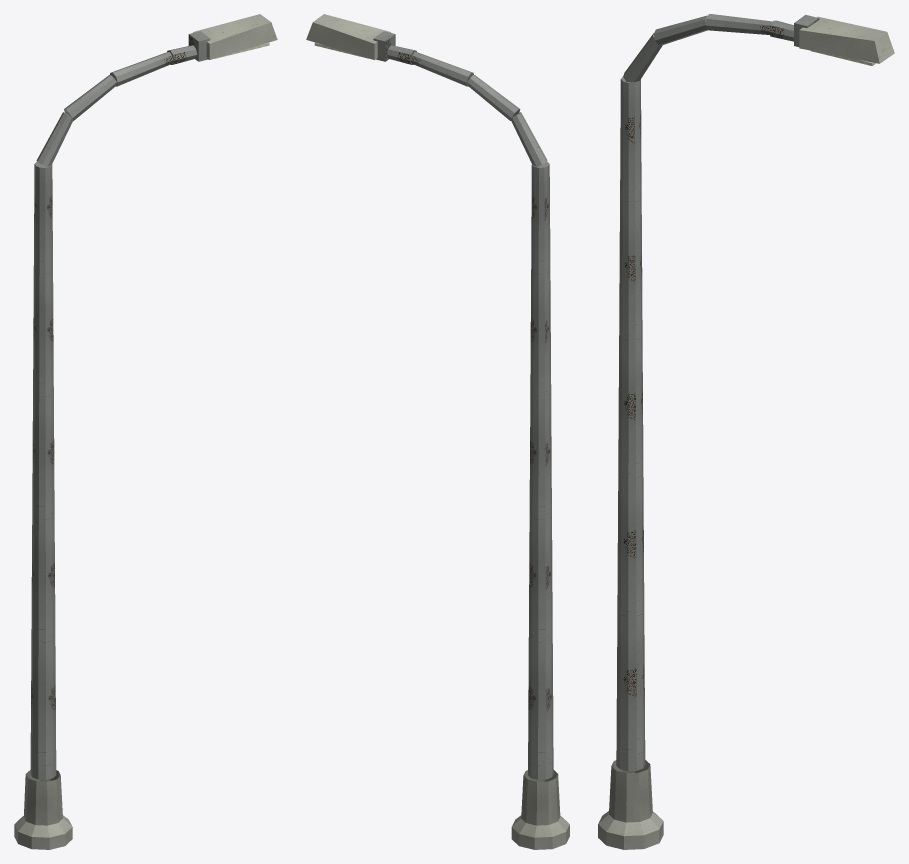
Rendered from streetlight_v3.glb.
The picture shows the model from 3 angles, left to right: view 1: azimuth 30°, elevation 25°; view 2: azimuth 150°, elevation 25°; view 3: azimuth 330°, elevation 25°; orthographic projection. The views are drawn at different scales.
Parts seen in each view (by area): view 1: Variant_streetlight_3; view 2: Variant_streetlight_3; view 3: Variant_streetlight_3.
Part boxes in pixels (<box>): Variant_streetlight_3: <box>14,14,277,849</box>; Variant_streetlight_3: <box>306,14,569,849</box>; Variant_streetlight_3: <box>598,14,894,849</box>.
Bounding box in the file's own units: 2.6 × 7.5 × 0.4945.
4 materials, 4 textured.
